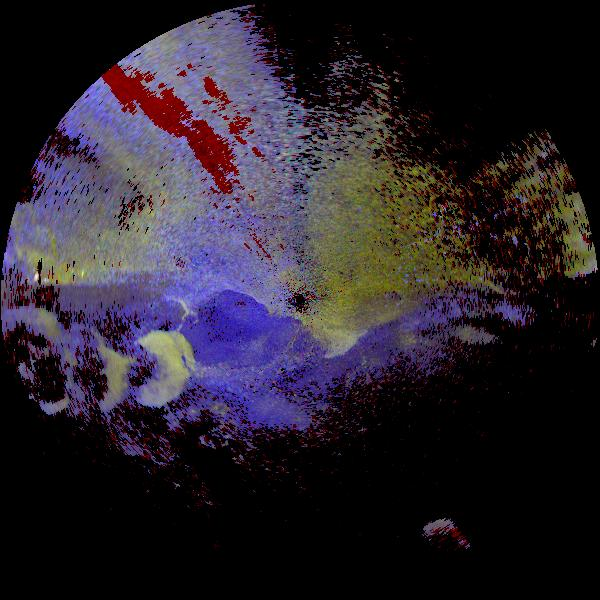roost: (92, 302, 221, 431), (41, 322, 152, 433), (390, 492, 492, 594), (9, 339, 99, 429)
